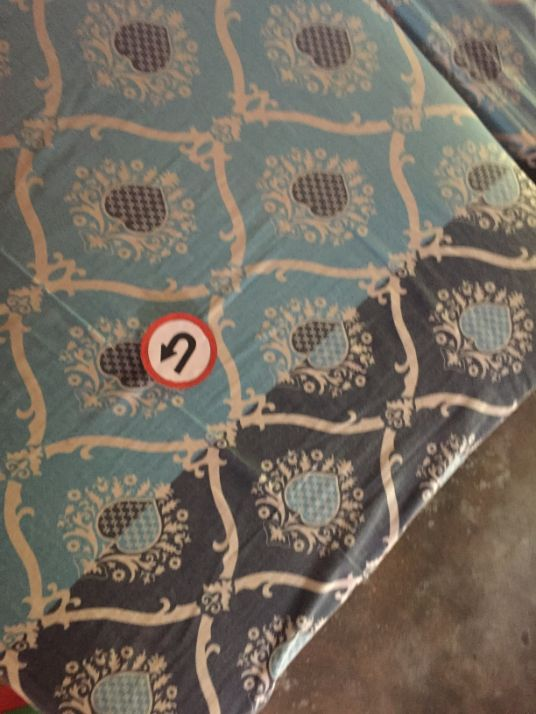u-turn: (140, 313, 217, 390)
